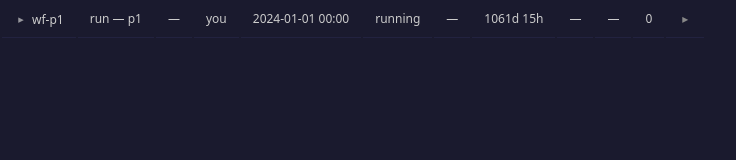
Test case: states how many children are shown when the page does not cover them all
What coordinates should you click on to do the following:
click the button named "Show child runs of run — p1"
I would click on:
 (21, 20)
Its box is [14,14,28,25].
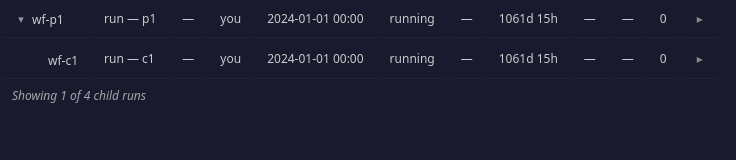
expect the text "wf-c1" is shown: met, box [48,52,78,68]
expect the text "Showing 1 of 4 child runs" is shown: met, box [2,80,719,110]
